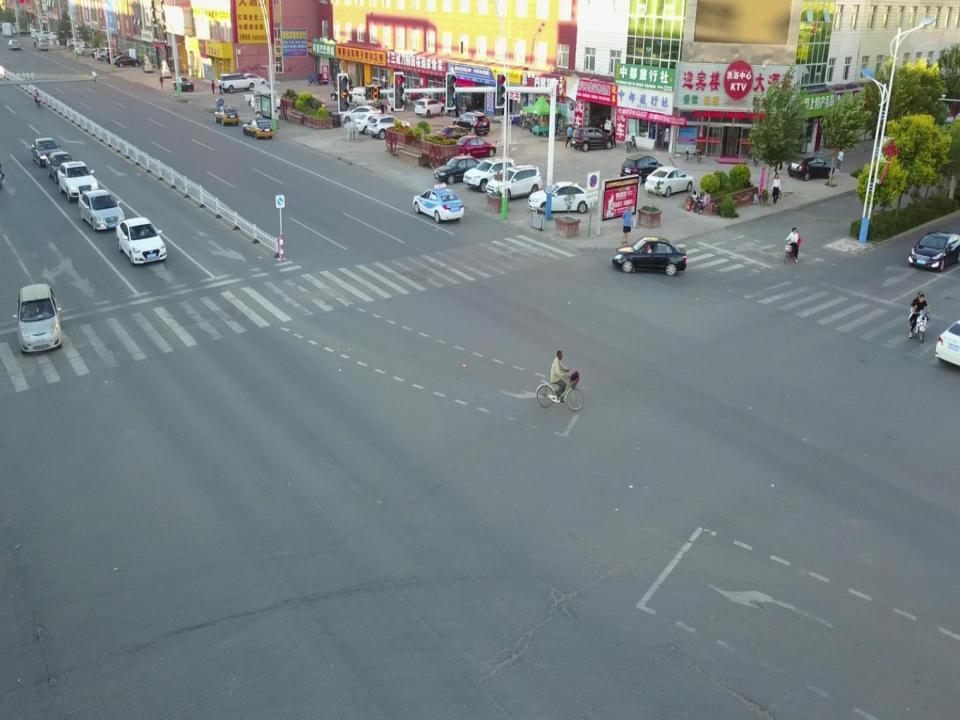car: (13, 282, 63, 352), (612, 234, 687, 276), (117, 216, 166, 264), (527, 180, 593, 215), (486, 164, 542, 200), (908, 231, 958, 271), (413, 184, 464, 223), (80, 189, 125, 231), (463, 155, 515, 191), (57, 161, 99, 199), (434, 156, 484, 185), (645, 166, 693, 195), (934, 319, 960, 367), (623, 154, 662, 184), (788, 155, 834, 179), (45, 150, 77, 182), (368, 116, 411, 139), (434, 125, 478, 147), (571, 127, 613, 150), (454, 135, 496, 158), (453, 111, 490, 137), (32, 136, 62, 166), (343, 106, 381, 125), (243, 116, 274, 139), (218, 72, 254, 90), (414, 97, 446, 117), (354, 114, 387, 133), (252, 94, 284, 111), (214, 105, 239, 126), (236, 72, 268, 86), (330, 86, 361, 100), (600, 115, 618, 133), (173, 76, 193, 92), (113, 55, 140, 66), (105, 51, 125, 63), (66, 38, 88, 48), (76, 46, 96, 56), (7, 39, 21, 51), (54, 36, 70, 46), (31, 28, 45, 37), (38, 31, 52, 40), (50, 32, 63, 38), (11, 27, 19, 36)
truck: (243, 88, 276, 106), (94, 46, 116, 59), (14, 22, 34, 34)
van: (353, 86, 380, 106), (386, 88, 402, 109), (2, 22, 12, 38), (37, 37, 48, 50)
